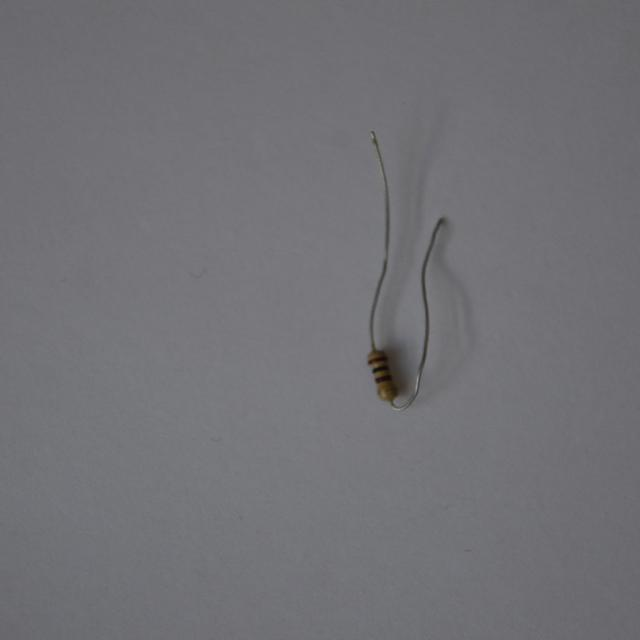Resistor Carbon-Film: (360, 347, 403, 406)
